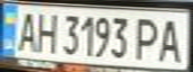1: (78, 12, 96, 57)
3: (109, 13, 133, 60), (57, 11, 81, 56)
9: (93, 12, 115, 59)
A: (154, 15, 187, 64), (12, 9, 39, 53)
H: (33, 9, 60, 54)
P: (133, 14, 163, 62)
